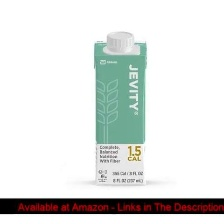carton: (89, 26, 154, 190)
